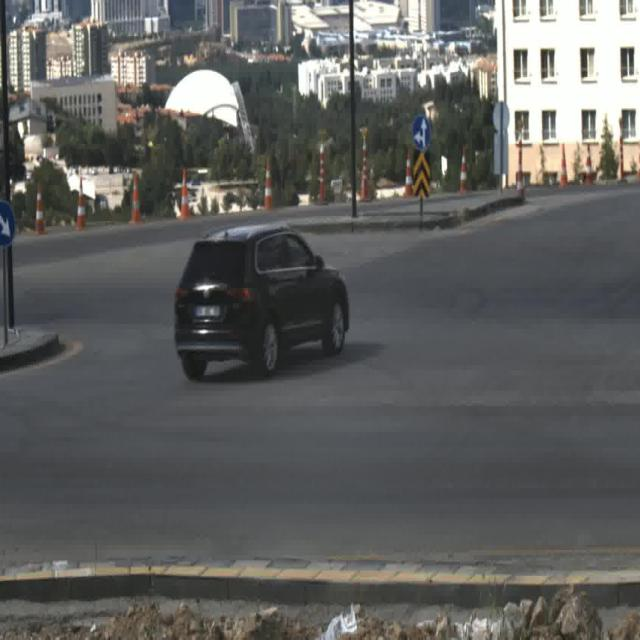Car: (175, 226, 347, 380)
